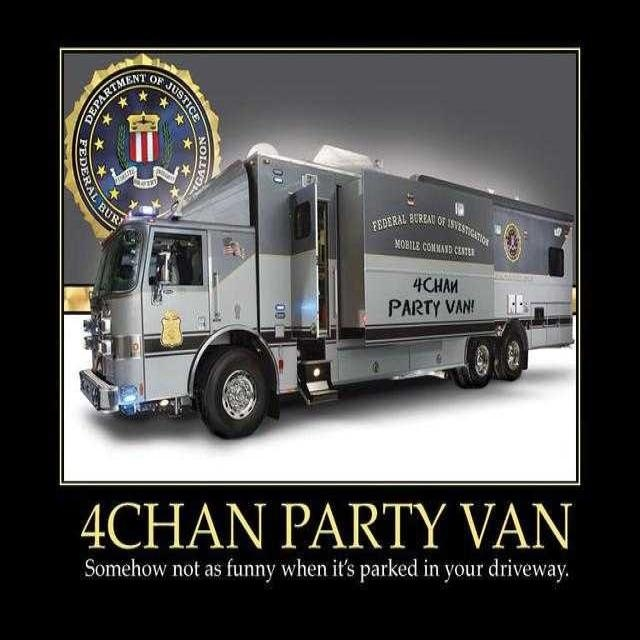Van: (79, 147, 580, 441)
